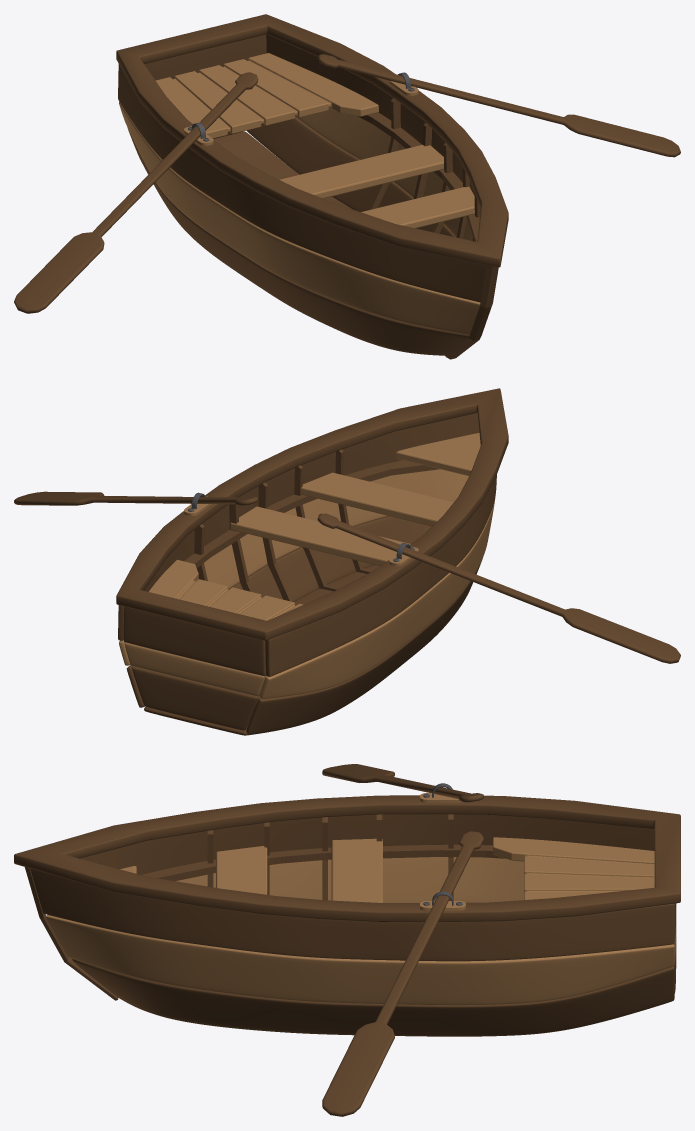
File: boat.glb
3 renders of one model, top to bottom at view 1: azimuth 30°, elevation 25°; view 2: azimuth 150°, elevation 25°; view 3: azimuth 270°, elevation 25°, orthographic. The views are drawn at different scales.
Parts seen in each view (by area): view 1: Boat edge, Main Boat.005, Main Boat.004, Main Boat.006, Cube.005, Cube.003, Cube, Cube.001, Main Boat.001, Inner Edges, Main Boat, inner edge (+1 smaller); view 2: Boat edge, Main Boat.004, Main Boat.005, Main Boat.006, Cube.005, Main Boat.001, Main Boat.003, Cube, Cube.001, Cube.003, Inner Edges, Main Boat.002 (+3 smaller); view 3: Main Boat.004, Main Boat.005, Boat edge, Main Boat.006, Cube.005, Cube.003, Cube, inner edge, Cube.001, Inner Edges, Plane, Cube.004.
Part boxes in pixels (x1,y1,x2,y2): Boat edge: (116,14,508,267); Main Boat.005: (119,102,480,334); Main Boat.004: (118,34,486,302); Main Boat.006: (127,116,469,355); Cube.005: (14,54,680,313); Cube.003: (155,53,378,138); Cube: (279,144,443,198); Cube.001: (361,186,474,228); Main Boat.001: (144,34,266,80); Inner Edges: (367,98,480,241); Main Boat: (213,131,433,355); inner edge: (358,112,479,241); Boat edge: (116,388,508,640); Main Boat.004: (118,413,496,676); Main Boat.005: (119,469,495,698); Main Boat.006: (126,516,482,734); Cube.005: (14,491,680,663); Main Boat.001: (123,606,265,675); Main Boat.003: (132,666,258,730); Cube: (230,506,410,565); Cube.001: (301,472,453,526); Cube.003: (149,559,303,620); Inner Edges: (194,449,372,605); Main Boat.002: (124,642,265,696); Main Boat.004: (30,814,674,961); Main Boat.005: (45,857,674,1005); Boat edge: (14,795,680,921); Main Boat.006: (72,959,674,1036); Cube.005: (322,764,483,1116); Cube.003: (493,837,654,899); Cube: (331,838,382,902); inner edge: (142,844,505,881); Cube.001: (216,846,267,894); Inner Edges: (207,814,453,900); Plane: (24,867,118,1000); Cube.004: (420,793,465,910).
Bounding box in the file's own units: 10.77 × 2.67 × 8.72.
